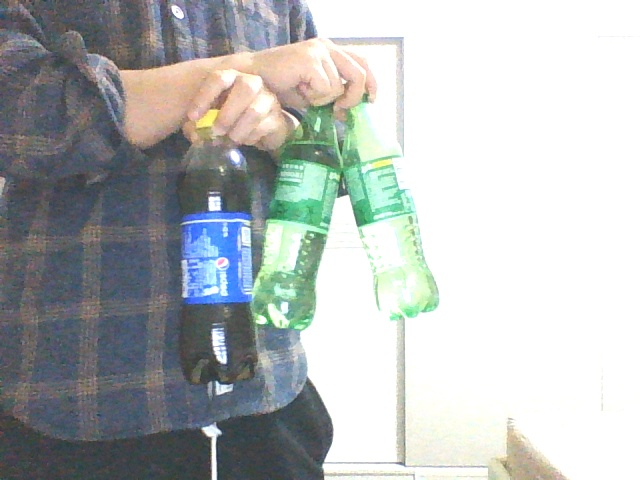Cola: (176, 110, 258, 384)
Sprite: (341, 92, 440, 322), (251, 103, 342, 330)
